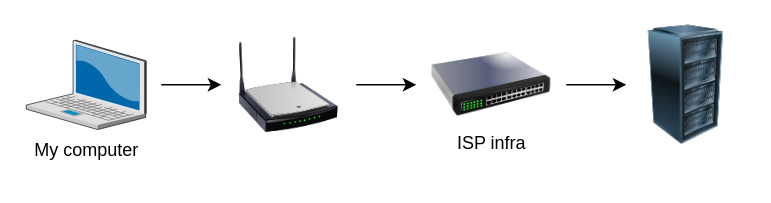
Image size: 771x203. Some labels were removed from this diagram. The centre of each missing label's shape, as x and y in pixels:
My router: point (288, 84)
Remote server: point (686, 84)
